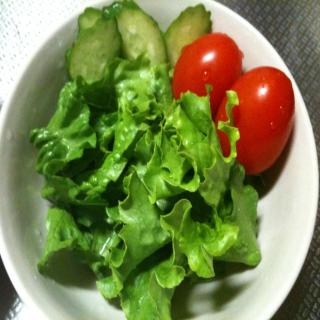tomato: (216, 66, 295, 178), (170, 32, 244, 118)
